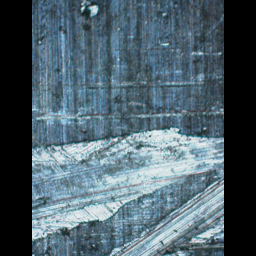d: (32, 121, 223, 255), (75, 0, 102, 29)
